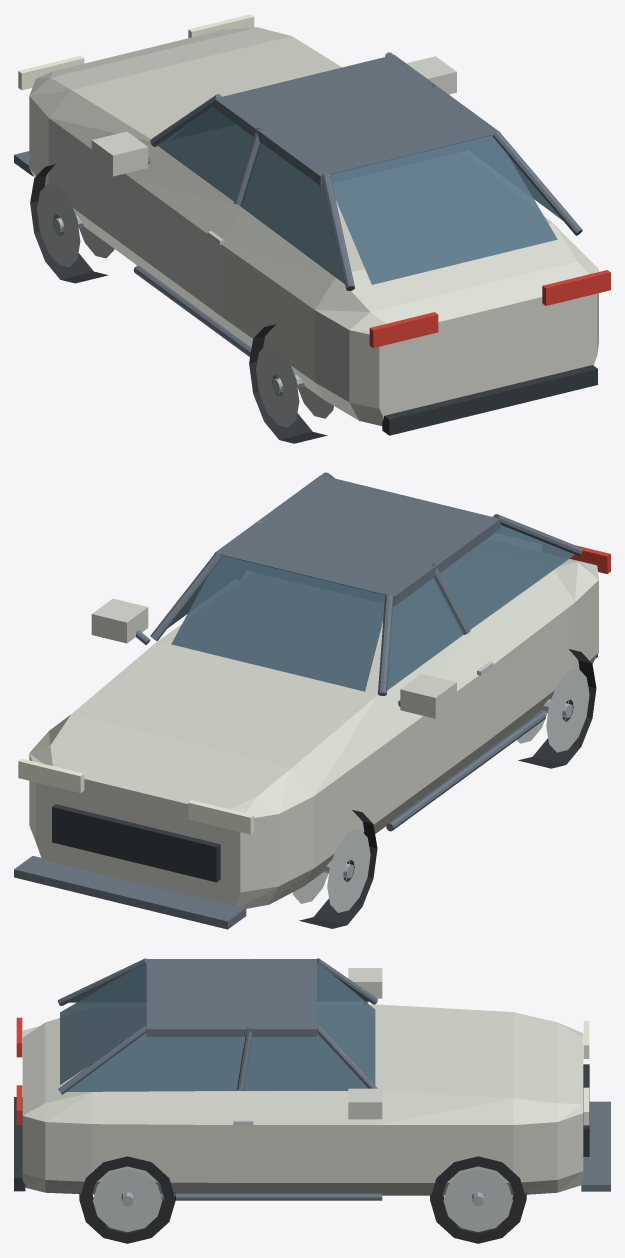
The model's file is alder_hatch.glb.
3 renders of one model, top to bottom at view 1: azimuth 30°, elevation 25°; view 2: azimuth 150°, elevation 25°; view 3: azimuth 270°, elevation 25°, orthographic. The views are drawn at different scales.
Parts seen in each view (by area): view 1: Body_Shell, Rear_Windshield, Roof, Rear_Quarter_Glass_-1, Door_Glass_-1, Diffuser, Rim_RL, Rim_FL, Mirror_Housing_-1, Tire_RL, Tire_FL, Taillight_-1 (+9 smaller); view 2: Body_Shell, Roof, Windshield, Rear_Quarter_Glass_-1, Grille, Splitter, Door_Glass_-1, Rim_FL, Rim_RL, Mirror_Housing_1, Mirror_Housing_-1, Sill_-1 (+7 smaller); view 3: Body_Shell, Roof, Rear_Quarter_Glass_1, Rear_Windshield, Door_Glass_1, Windshield, Rim_FR, Rim_RR, Tire_FR, Tire_RR, Splitter, Sill_1 (+9 smaller).
Boxes of the visible parts, x1,y1,x2,y2 form: Body_Shell: (29,27,598,425); Rear_Windshield: (330,135,557,284); Roof: (214,55,500,185); Rear_Quarter_Glass_-1: (240,142,344,283); Door_Glass_-1: (157,106,253,201); Diffuser: (382,365,597,435); Rim_RL: (256,344,333,427); Rim_FL: (37,183,114,267); Mirror_Housing_-1: (91,131,148,176); Tire_RL: (249,324,327,443); Tire_FL: (30,164,108,283); Taillight_-1: (369,312,438,347); Body_Shell: (29,558,598,908); Roof: (214,475,500,606); Windshield: (171,555,384,691); Rear_Quarter_Glass_-1: (440,525,574,629); Grille: (52,804,220,882); Splitter: (14,856,246,929); Door_Glass_-1: (387,578,463,690); Rim_FL: (293,829,370,912); Rim_RL: (517,668,589,752); Mirror_Housing_1: (91,598,148,643); Mirror_Housing_-1: (400,674,456,718); Sill_-1: (386,712,545,831); Body_Shell: (22,1004,583,1195); Roof: (146,959,316,1036); Rear_Quarter_Glass_1: (66,1032,244,1091); Rear_Windshield: (60,962,146,1084); Door_Glass_1: (244,1033,367,1090); Windshield: (317,962,375,1084); Rim_FR: (443,1169,512,1231); Rim_RR: (93,1169,162,1231); Tire_FR: (430,1156,526,1243); Tire_RR: (79,1156,175,1243); Splitter: (581,1101,610,1191); Sill_1: (160,1193,382,1200).
Bounding box in the file's own units: 2.24 × 1.52 × 4.21.
